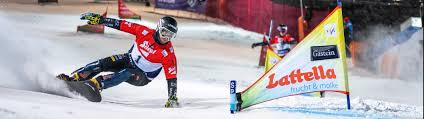snowboard: (55, 71, 103, 103)
